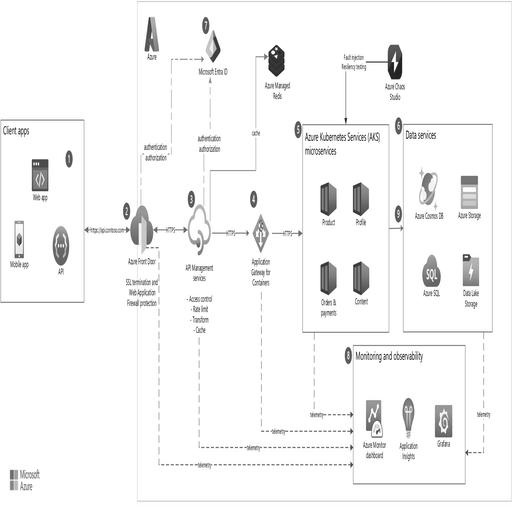actor: (0, 120, 84, 302)
api_gateway: (183, 206, 214, 250), (128, 205, 156, 246), (249, 212, 272, 250)
compute: (301, 123, 389, 333)
data_flow: (158, 446, 353, 450), (198, 446, 352, 450), (482, 332, 485, 452), (197, 330, 200, 448), (87, 224, 128, 232), (208, 63, 212, 137), (254, 76, 257, 170), (260, 430, 352, 433), (170, 60, 172, 196), (140, 60, 142, 196), (259, 316, 262, 406), (312, 351, 316, 402), (210, 168, 256, 172), (157, 225, 185, 231), (214, 228, 242, 234), (272, 228, 300, 234), (314, 414, 352, 417), (390, 224, 404, 232), (344, 71, 346, 122), (162, 58, 202, 60), (464, 450, 483, 453), (0, 1, 0, 1)
database_storage: (404, 123, 492, 333), (264, 44, 287, 77)
network_security: (352, 344, 466, 482), (382, 42, 406, 80), (201, 28, 224, 62)
trust_boundary: (136, 0, 512, 502)
